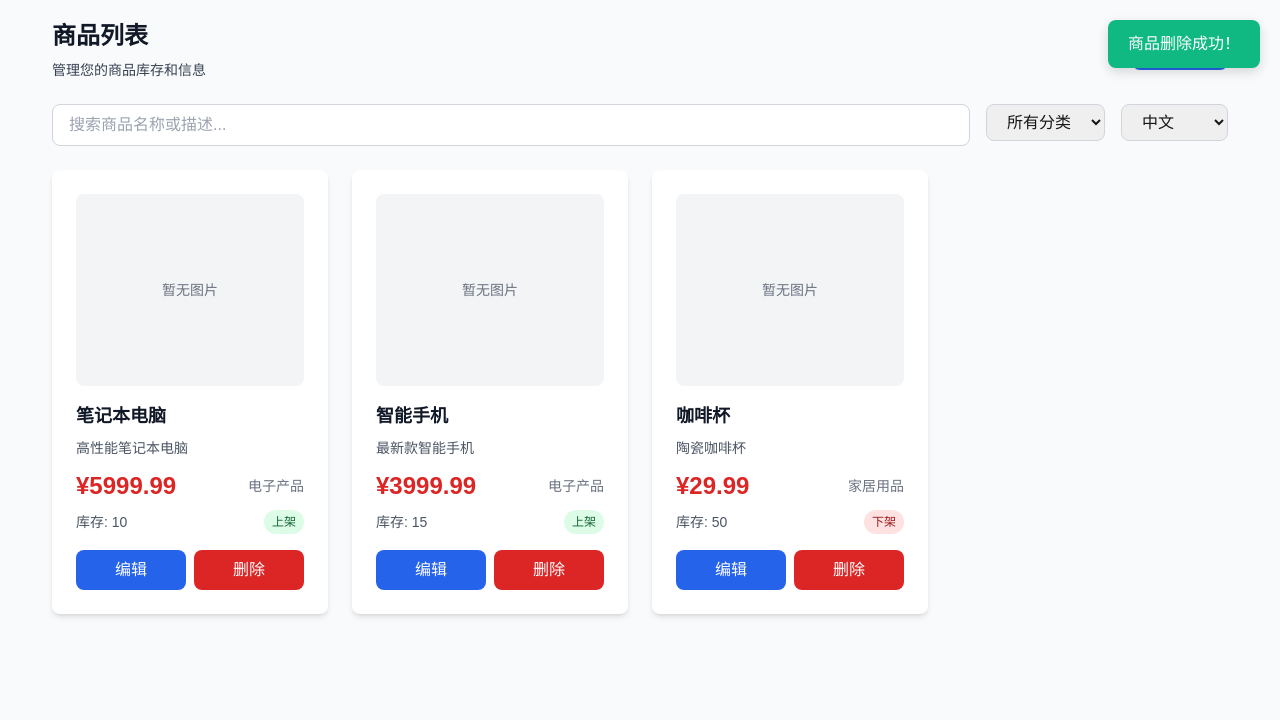
Test case: HomePage › handles product editing
Expected: the heading "笔记本电脑" is shown, x1=76 y1=406 x2=166 y2=426
Step 1. Click the button "编辑" below "10" → (131, 570), box x1=76 y1=550 x2=186 y2=590
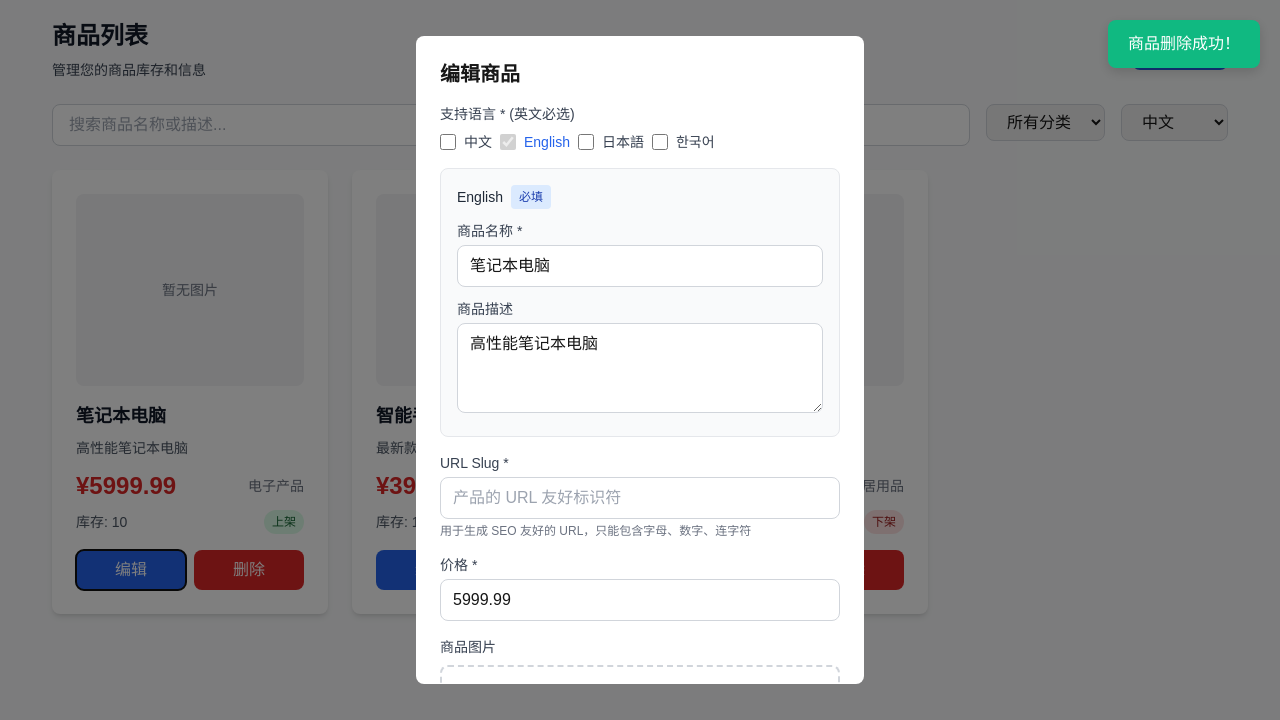
Now the heading "编辑商品" is shown, box x1=440 y1=63 x2=520 y2=85
Now the field showing "笔记本电脑" is shown, box x1=457 y1=245 x2=823 y2=287
